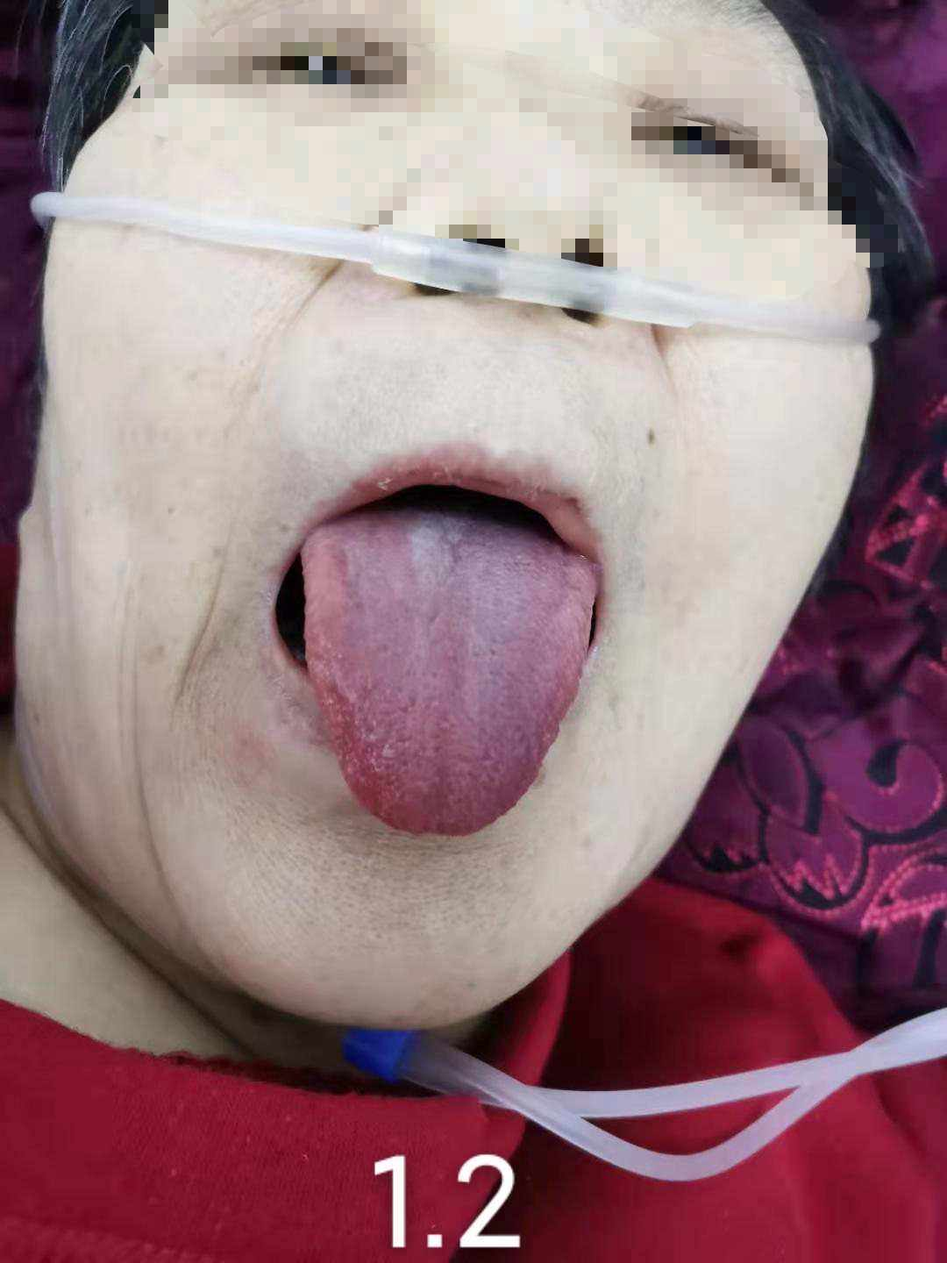baitaishe: (303, 503, 597, 836)
hongshe: (303, 503, 597, 836)
